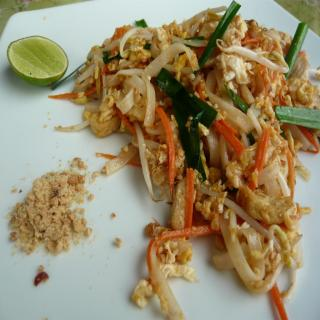Lemon: (7, 34, 69, 88)
